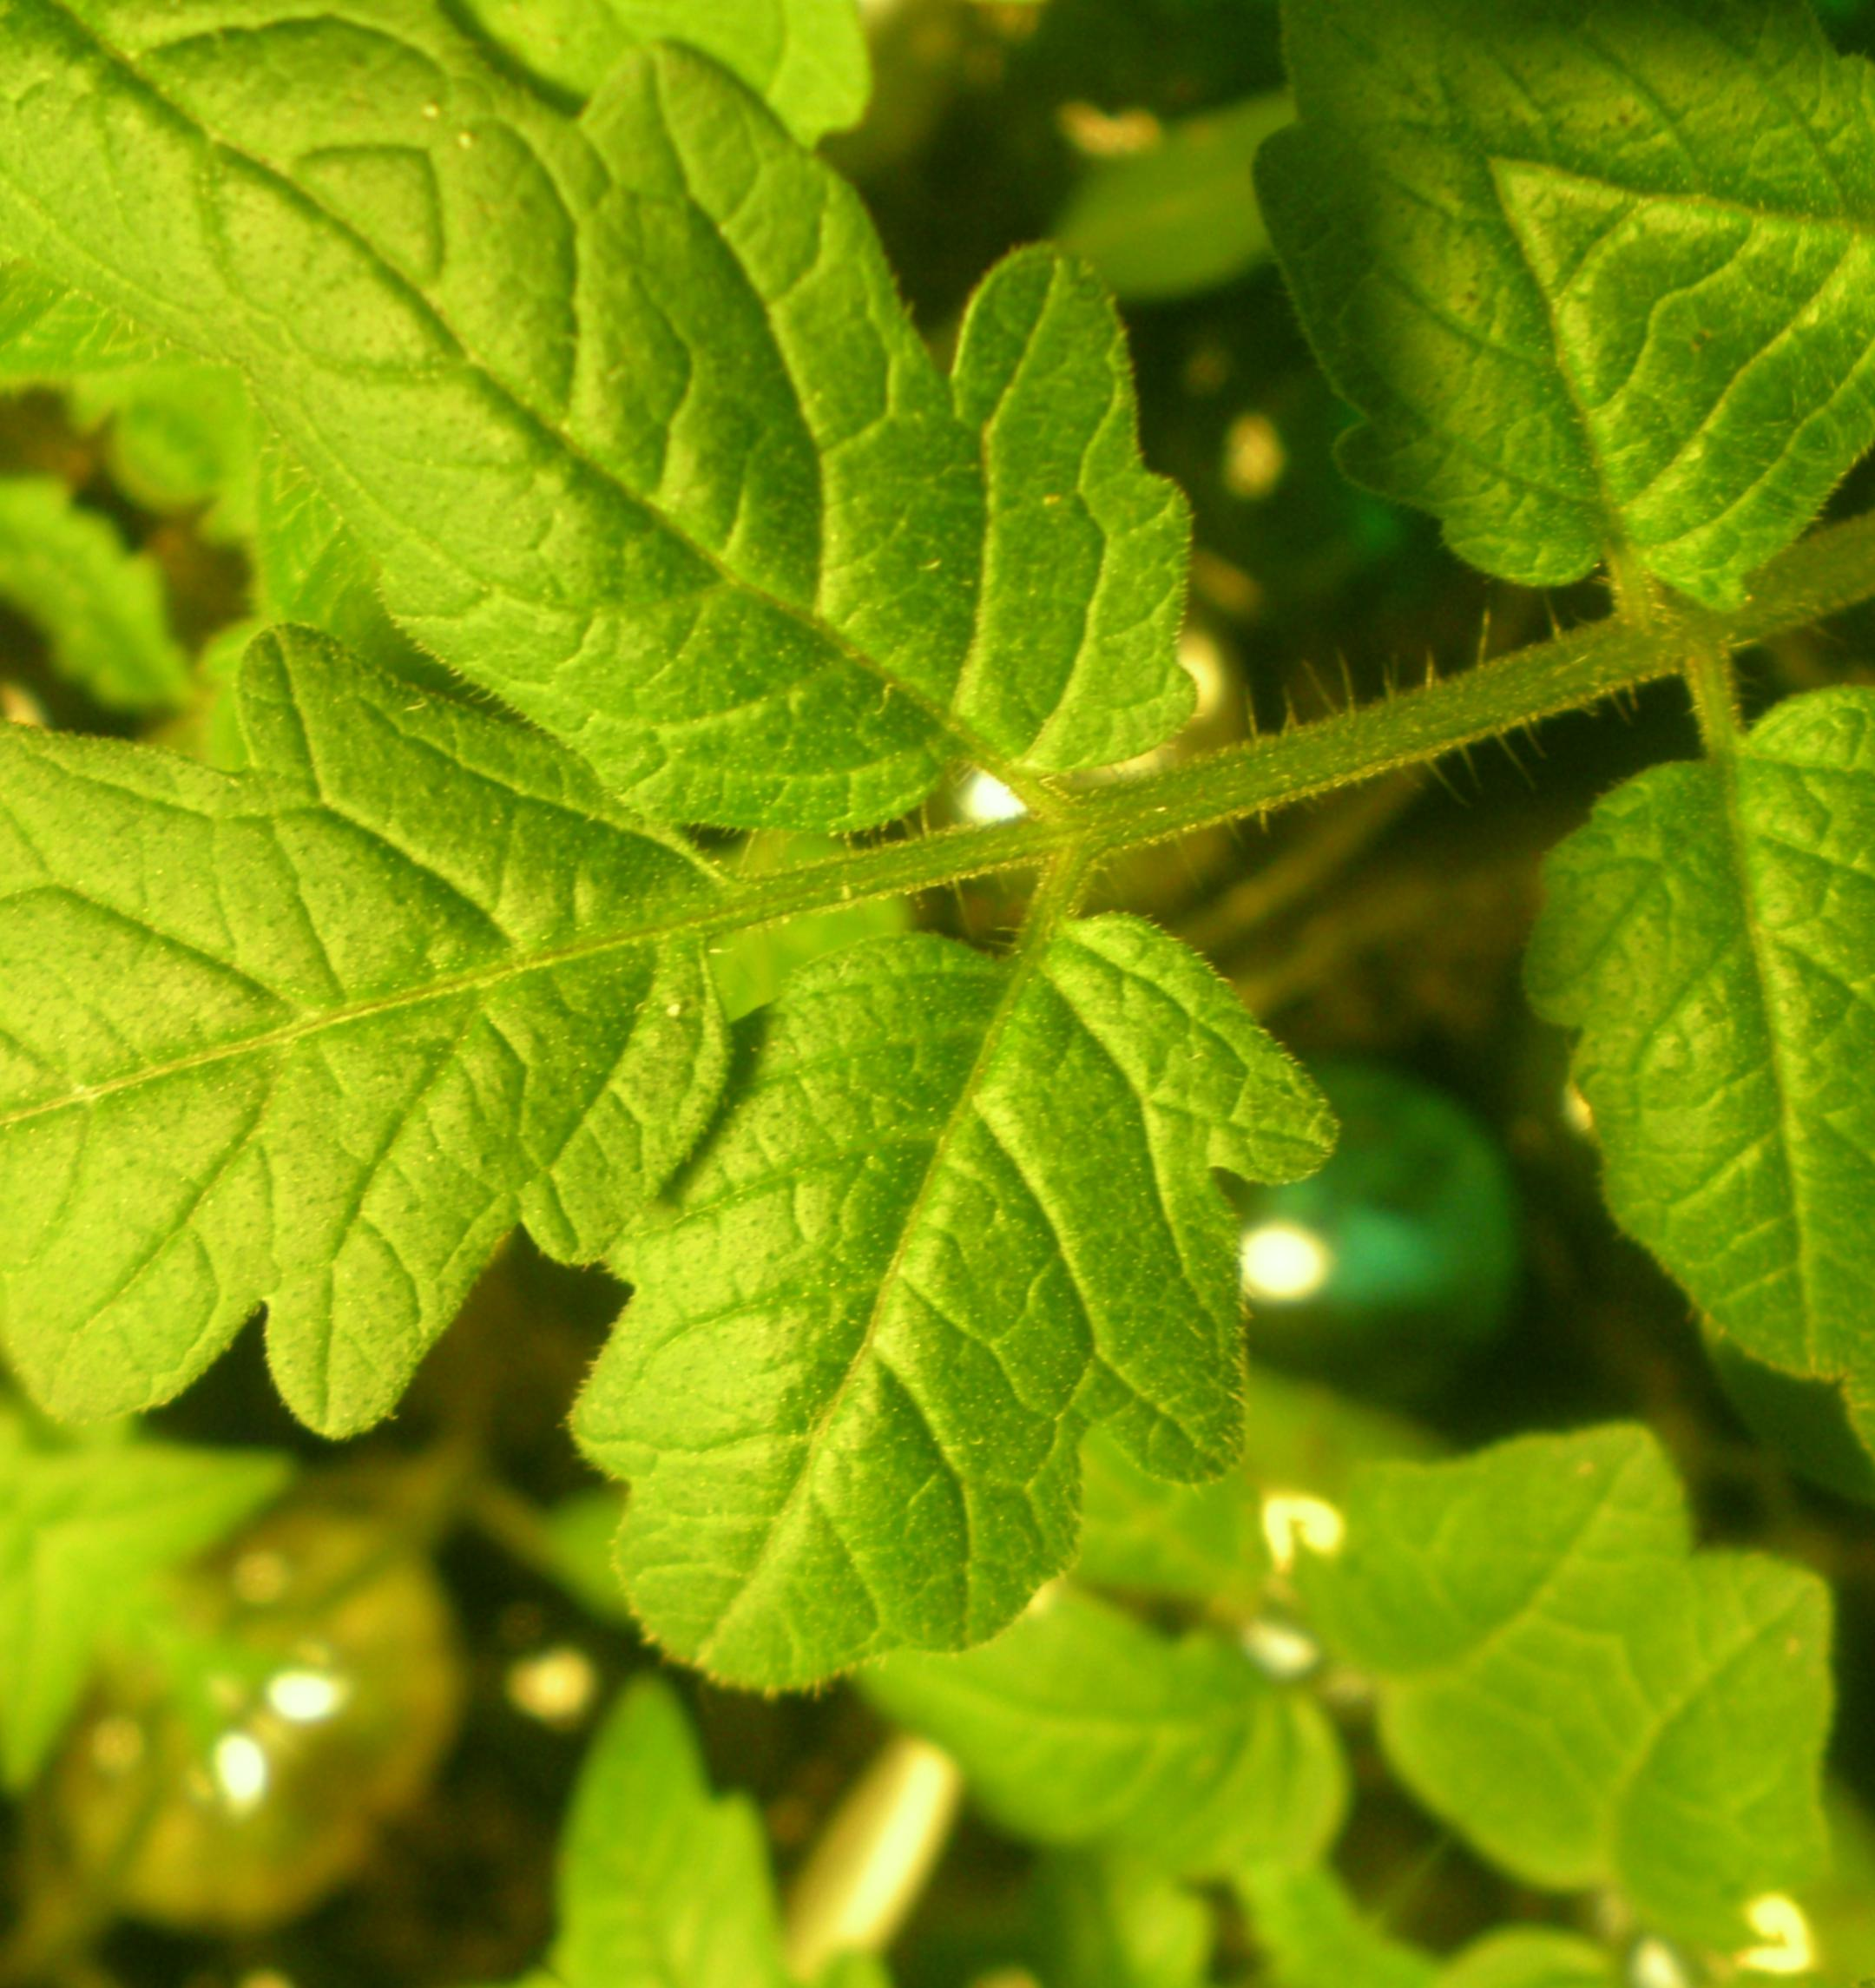Tomato leaf: (358, 666, 1531, 1873), (192, 0, 1376, 1056), (0, 405, 855, 1636), (1004, 0, 1866, 756), (1292, 564, 1875, 1456), (793, 1440, 1406, 1988), (1170, 1255, 1745, 1838), (426, 1643, 1052, 1988)
